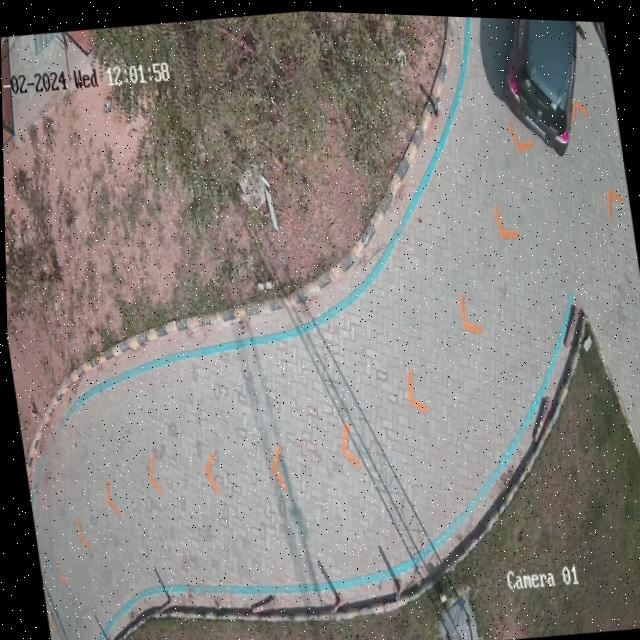car: (495, 15, 585, 150)
